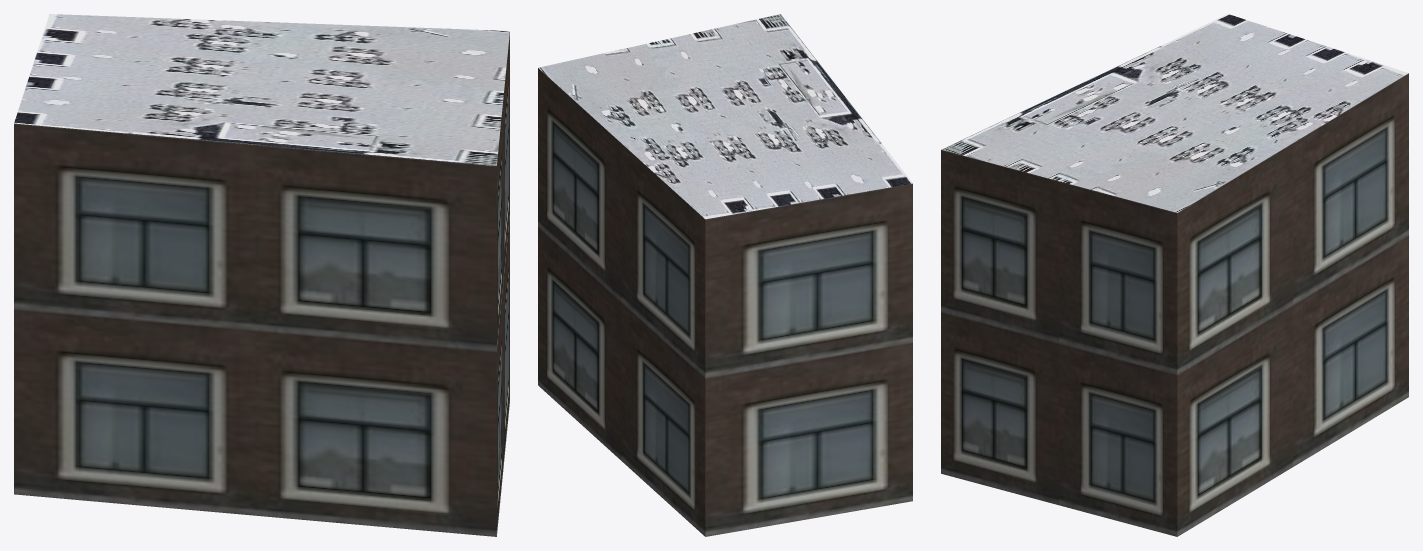
Rendered from ResTex__365.fbx.
3 renders of one model, left to right at view 1: azimuth 30°, elevation 25°; view 2: azimuth 150°, elevation 25°; view 3: azimuth 270°, elevation 25°, orthographic. The views are drawn at different scales.
Parts seen in each view (by area): view 1: CityEngineMaterial_16_m, CityEngineMaterial_15_m; view 2: CityEngineMaterial_16_m, CityEngineMaterial_15_m; view 3: CityEngineMaterial_16_m, CityEngineMaterial_15_m.
Boxes of the visible parts, x1,y1,x2,y2 form: CityEngineMaterial_16_m: (14,33,509,536); CityEngineMaterial_15_m: (14,14,509,165); CityEngineMaterial_16_m: (538,68,912,536); CityEngineMaterial_15_m: (538,14,912,219); CityEngineMaterial_16_m: (941,73,1408,536); CityEngineMaterial_15_m: (941,14,1408,212).
Bounding box in the file's own units: 7.9 × 6 × 7.85.
2 materials, 2 textured.
